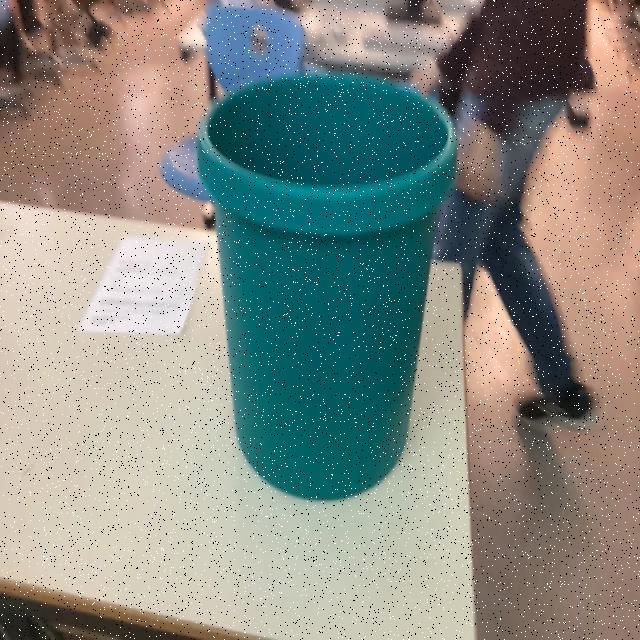garbage container: (144, 17, 499, 546)
